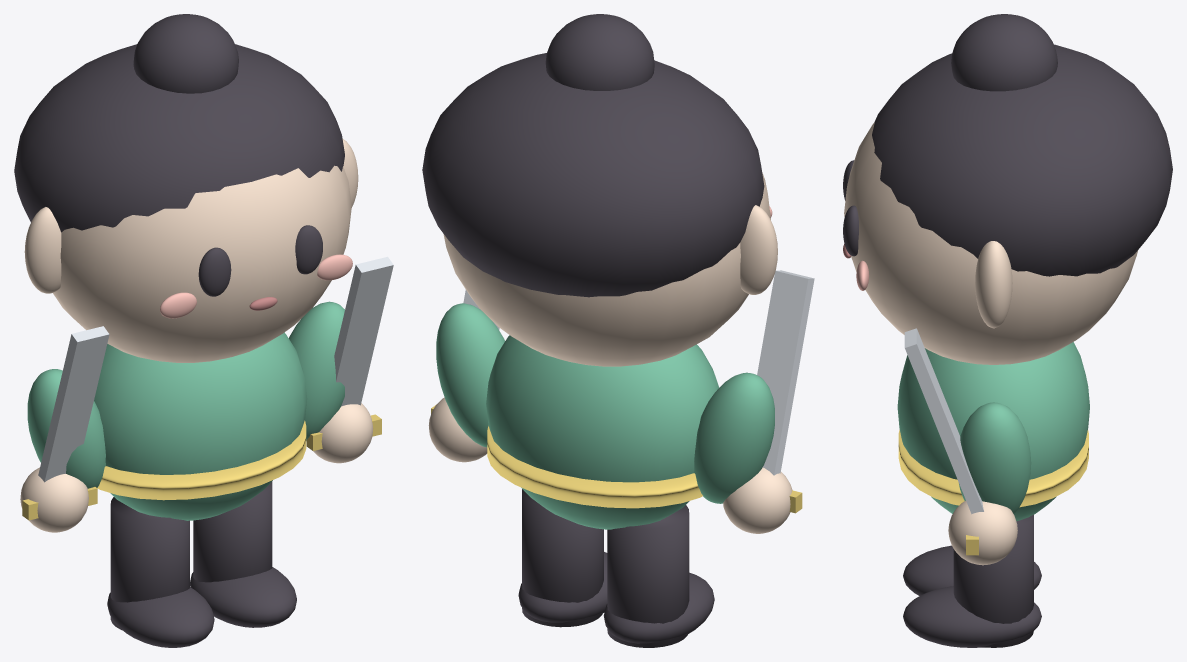
The model's file is liubei.fbx.
3 views of the same model, side by side, from view 1: azimuth 30°, elevation 25°; view 2: azimuth 150°, elevation 25°; view 3: azimuth 270°, elevation 25° (orthographic). The views are drawn at different scales.
Visible parts, largest first — view 1: hair, head_mesh, body, leg, bun, leg.001, wp_blade.001, belt, wp_blade, arm_mesh, shoe, shoe.001 (+9 smaller); view 2: hair, body, head_mesh, leg, arm_mesh.001, leg.001, bun, arm_mesh, wp_blade.001, belt, hand_mesh.001, shoe (+3 smaller); view 3: hair, head_mesh, body, bun, arm_mesh, leg.001, shoe.001, belt, wp_blade, hand_mesh, ear.001, shoe (+1 smaller).
Part boxes in pixels (x1,y1,x2,y2): hair: (14, 44, 344, 232); head_mesh: (53, 165, 351, 362); body: (94, 332, 307, 520); leg: (110, 497, 189, 630); bun: (133, 14, 238, 93); leg.001: (193, 481, 272, 582); wp_blade.001: (38, 326, 109, 482); belt: (97, 420, 306, 500); wp_blade: (334, 256, 393, 406); arm_mesh: (289, 301, 344, 440); shoe: (107, 587, 214, 647); shoe.001: (190, 567, 296, 627); hair: (422, 53, 764, 297); body: (486, 335, 719, 529); head_mesh: (443, 173, 770, 366); leg: (607, 505, 689, 647); arm_mesh.001: (694, 372, 774, 503); leg.001: (522, 489, 603, 627); bun: (545, 14, 654, 90); arm_mesh: (436, 303, 504, 447); wp_blade.001: (757, 270, 814, 475); belt: (487, 426, 702, 508); hand_mesh.001: (723, 467, 792, 533); shoe: (603, 572, 714, 643); hair: (872, 44, 1172, 276); head_mesh: (844, 122, 1137, 364); body: (897, 342, 1089, 521); bun: (951, 14, 1057, 91); arm_mesh: (959, 402, 1031, 513); leg.001: (953, 514, 1033, 647); shoe.001: (903, 586, 1041, 647); belt: (898, 430, 1088, 507); wp_blade: (904, 328, 983, 514); hand_mesh: (948, 500, 1017, 565); ear.001: (975, 241, 1012, 328); shoe: (903, 545, 1041, 595).
Size of the model in its own units: 0.77 by 1.24 by 0.617.
